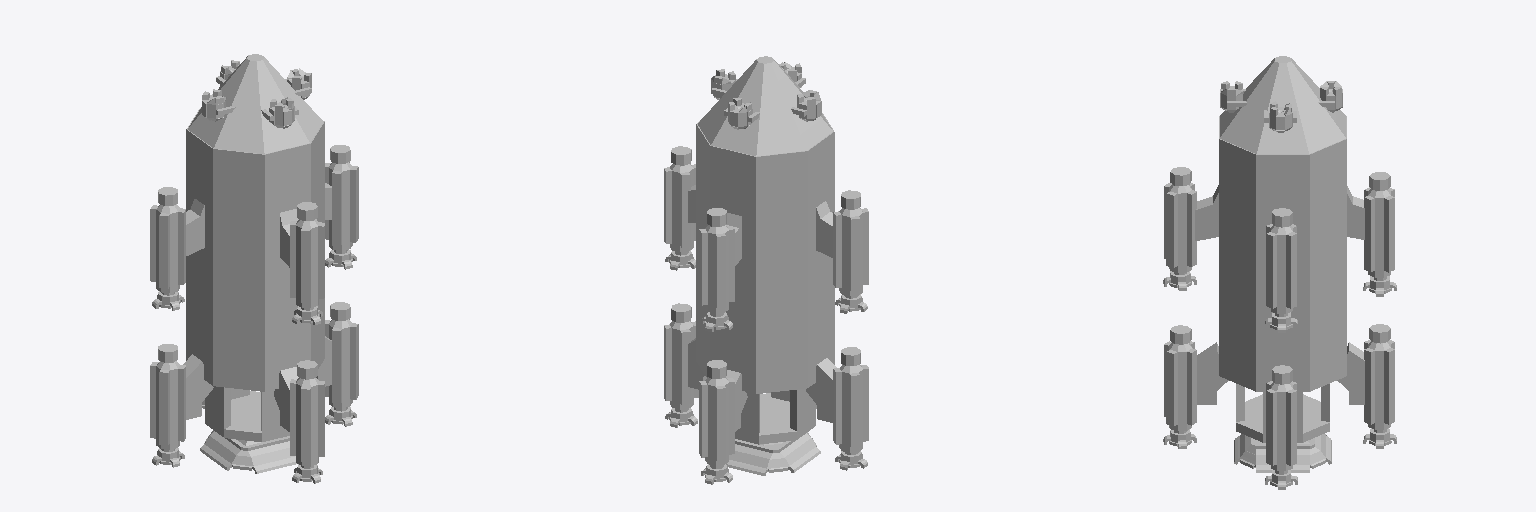
The model's file is rocket_t8.obj.
The picture shows the model from 3 angles: view 1: azimuth 30°, elevation 25°; view 2: azimuth 150°, elevation 25°; view 3: azimuth 270°, elevation 25°; orthographic projection.
Visible parts, largest first — view 1: BodyRocket, NoseRocket, NozzleKeeper, RocketEngine004, RocketEngine003, RocketEngine005, RocketEngine, Nozzle, RocketEngine006, RocketEngine001, Rocket_stabilizer2, Rocket_stabilizer009 (+5 smaller); view 2: BodyRocket, NoseRocket, NozzleKeeper, RocketEngine002, RocketEngine004, RocketEngine007, RocketEngine003, Nozzle, RocketEngine006, RocketEngine001, Rocket_stabilizer2, Rocket_stabilizer009 (+2 smaller); view 3: BodyRocket, NoseRocket, NozzleKeeper, RocketEngine, RocketEngine005, RocketEngine006, RocketEngine001, RocketEngine007, RocketEngine002, Nozzle, Rocket_stabilizer4, Rocket_stabilizer3 (+5 smaller).
Boxes of the visible parts, x1,y1,x2,y2 form: BodyRocket: [186, 108, 324, 391]; NoseRocket: [188, 54, 322, 153]; NozzleKeeper: [205, 386, 289, 441]; RocketEngine004: [150, 204, 185, 292]; RocketEngine003: [150, 361, 185, 449]; RocketEngine005: [290, 219, 324, 307]; RocketEngine: [290, 378, 324, 466]; Nozzle: [200, 430, 296, 473]; RocketEngine006: [325, 162, 358, 250]; RocketEngine001: [325, 319, 358, 407]; Rocket_stabilizer2: [183, 354, 213, 419]; Rocket_stabilizer009: [186, 199, 204, 255]; BodyRocket: [696, 113, 834, 393]; NoseRocket: [698, 56, 832, 156]; NozzleKeeper: [735, 389, 815, 444]; RocketEngine002: [699, 377, 734, 465]; RocketEngine004: [833, 208, 868, 295]; RocketEngine007: [699, 225, 734, 313]; RocketEngine003: [833, 364, 868, 452]; Nozzle: [726, 432, 820, 475]; RocketEngine006: [664, 164, 695, 251]; RocketEngine001: [664, 321, 698, 409]; Rocket_stabilizer2: [806, 358, 836, 422]; Rocket_stabilizer009: [816, 201, 832, 257]; BodyRocket: [1219, 116, 1346, 391]; NoseRocket: [1220, 56, 1345, 153]; NozzleKeeper: [1236, 384, 1329, 442]; RocketEngine: [1164, 341, 1196, 431]; RocketEngine005: [1164, 183, 1196, 272]; RocketEngine006: [1266, 224, 1296, 313]; RocketEngine001: [1266, 381, 1296, 470]; RocketEngine007: [1364, 187, 1394, 277]; RocketEngine002: [1364, 340, 1394, 429]; Nozzle: [1234, 434, 1331, 472]; Rocket_stabilizer4: [1197, 342, 1228, 404]; Rocket_stabilizer3: [1337, 342, 1364, 404].
Size of the model in its own units: 5.96 by 11.23 by 6.03.